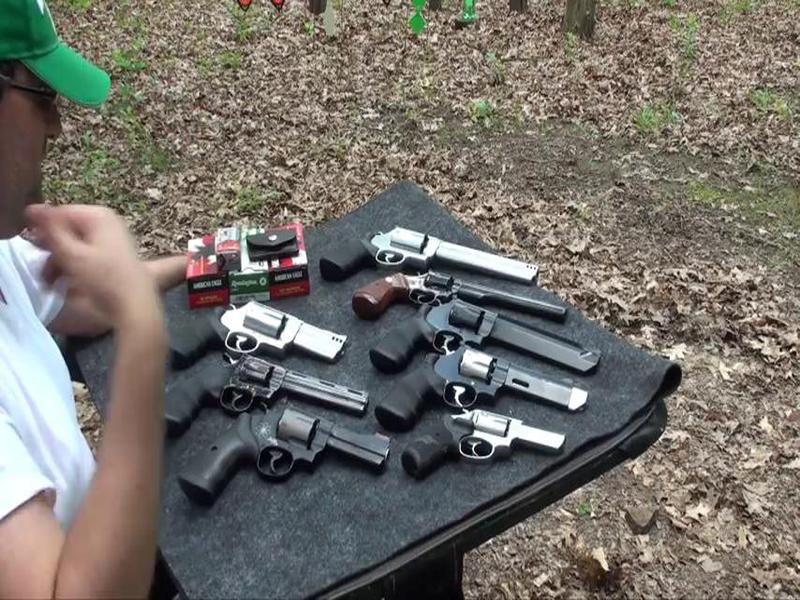Revolver: (319, 218, 559, 304)
